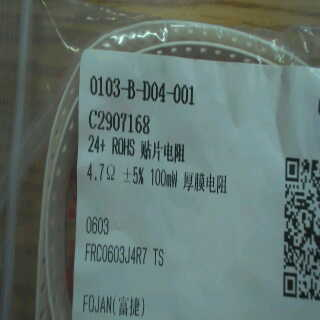4.7R: (85, 157, 118, 186)
